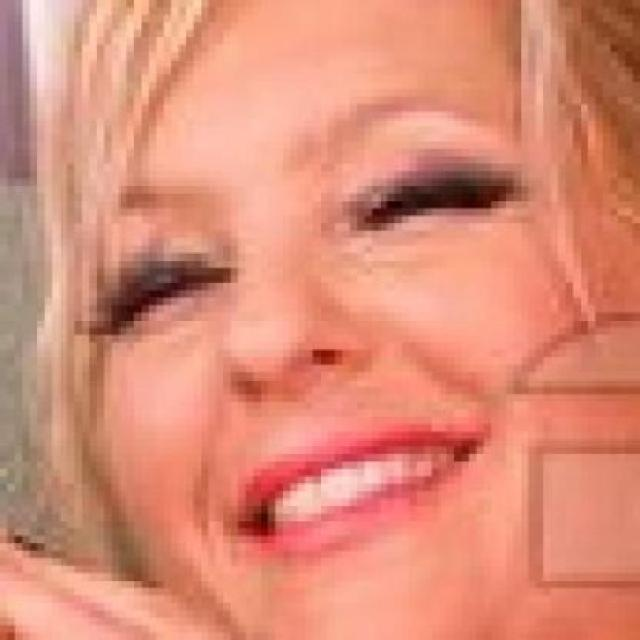drowsy: (350, 156, 512, 247), (106, 242, 229, 350)
